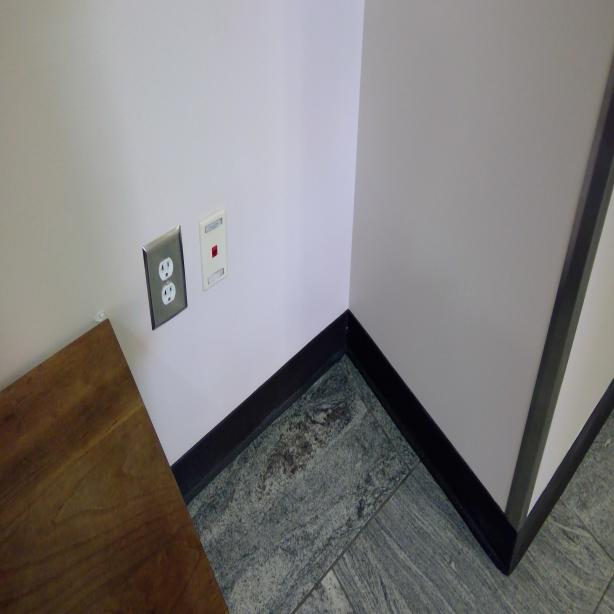typeb: (156, 256, 173, 281), (161, 286, 176, 305)
